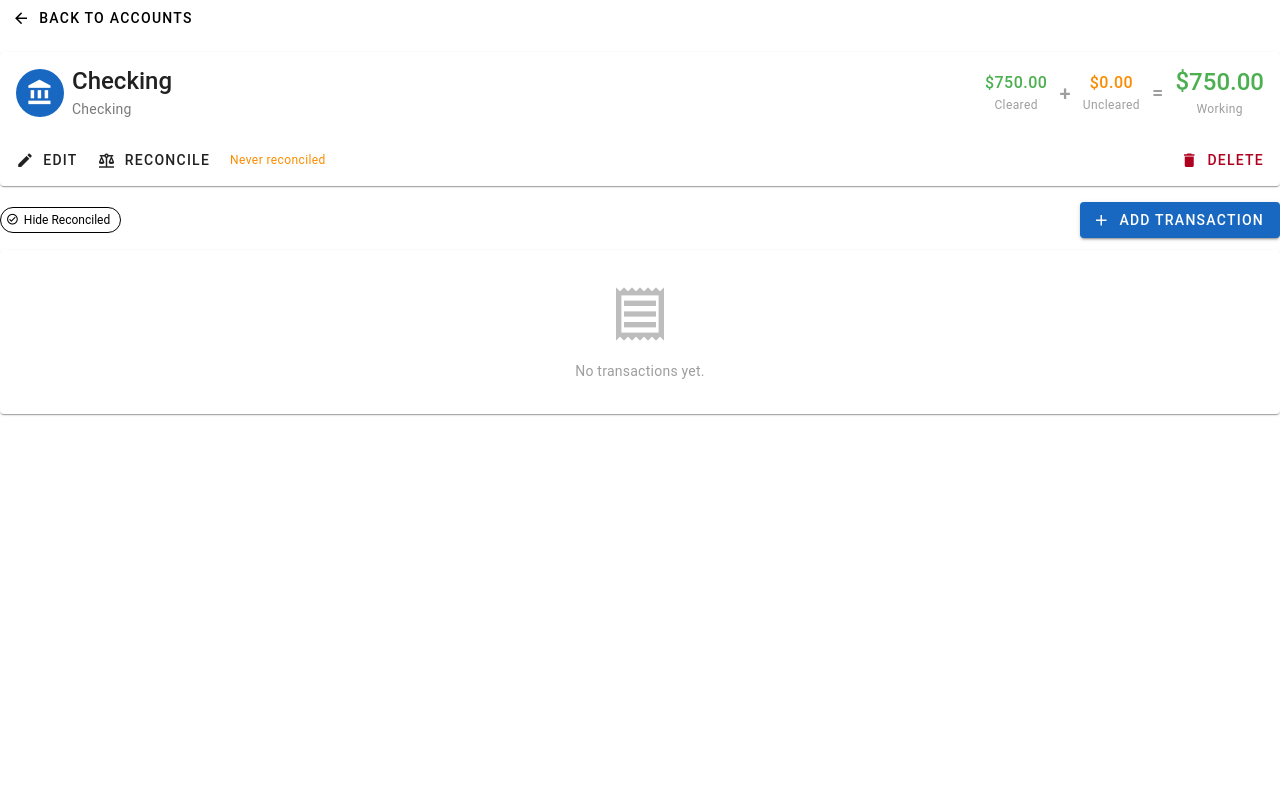
AccountDetailView › Step 2 input has cleared balance pre-filled
Note: Open reconcile dialog
Click the button "Reconcile" at (154, 160), box [90,142,218,178]
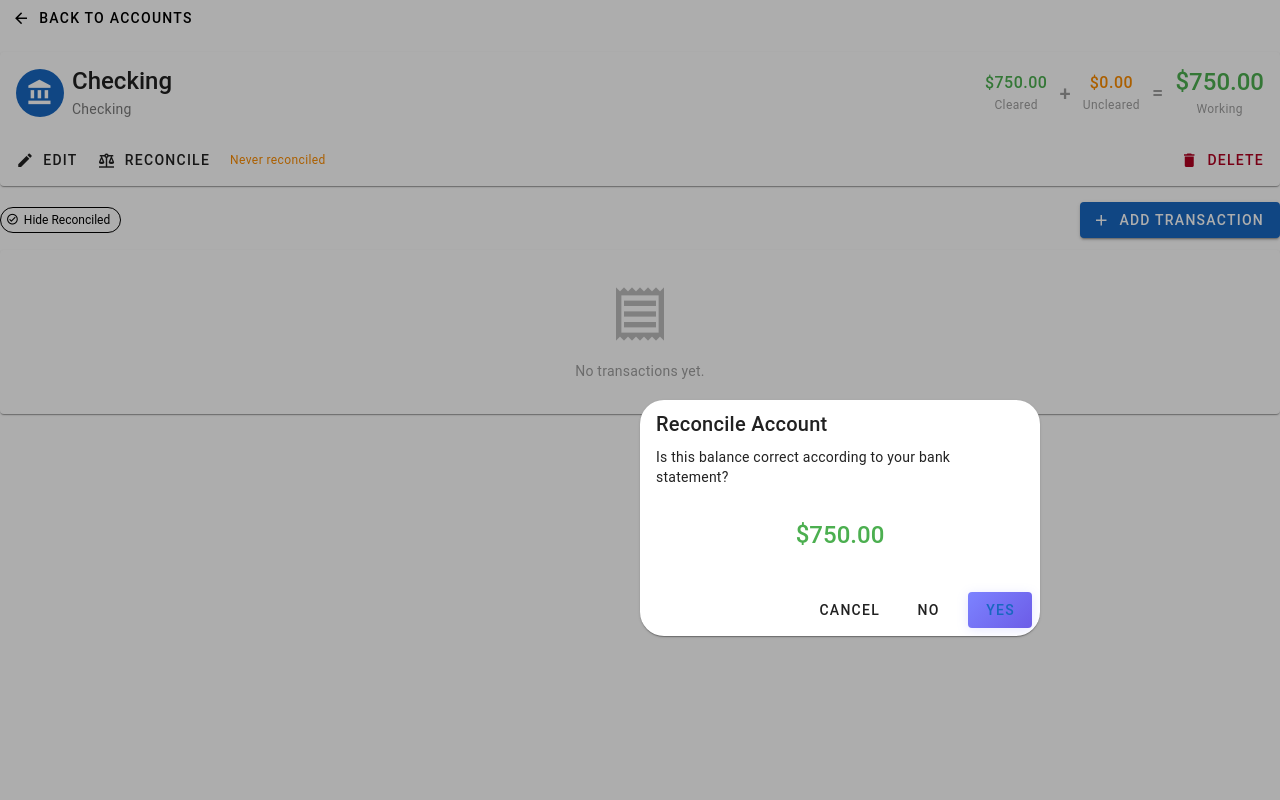
Click the button "No" at (928, 610), box [896,592,960,628]
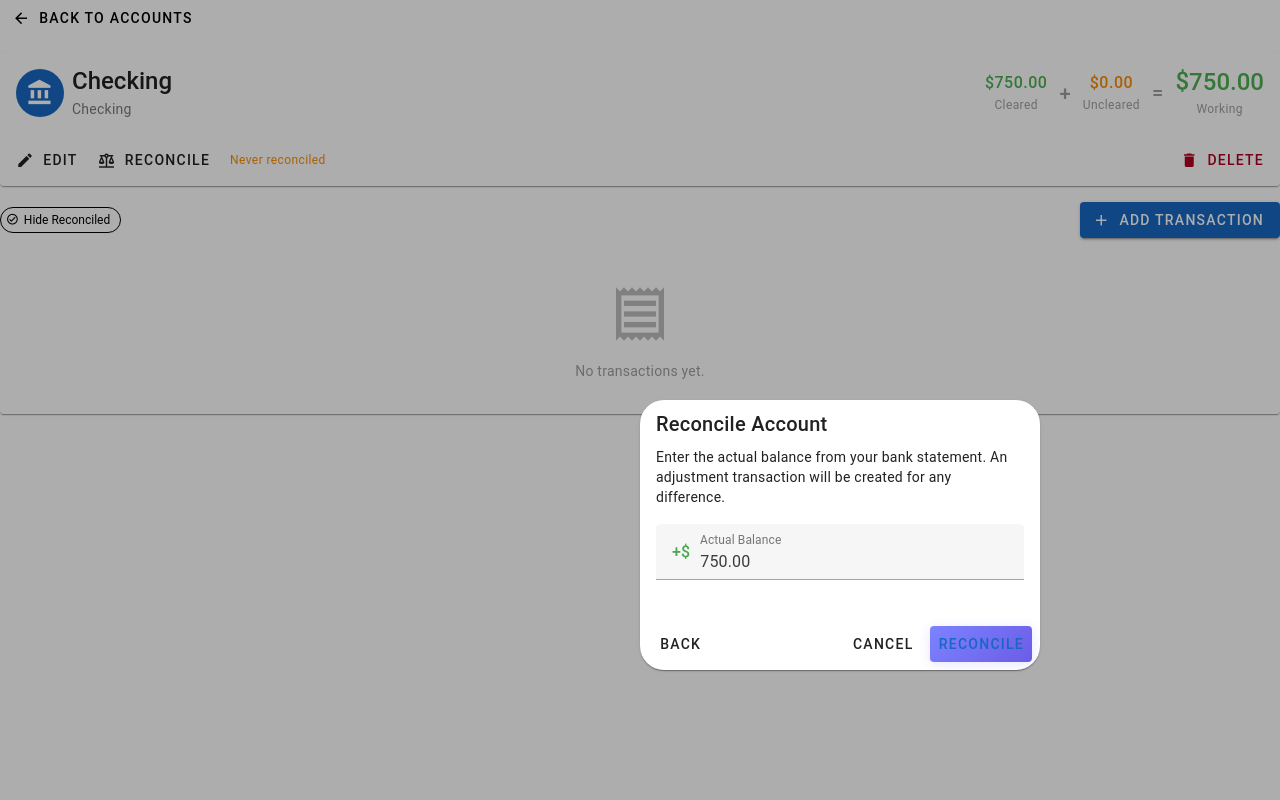
Expected: the field labelled "Actual Balance" holds "750.00", [694,524,1024,580]
